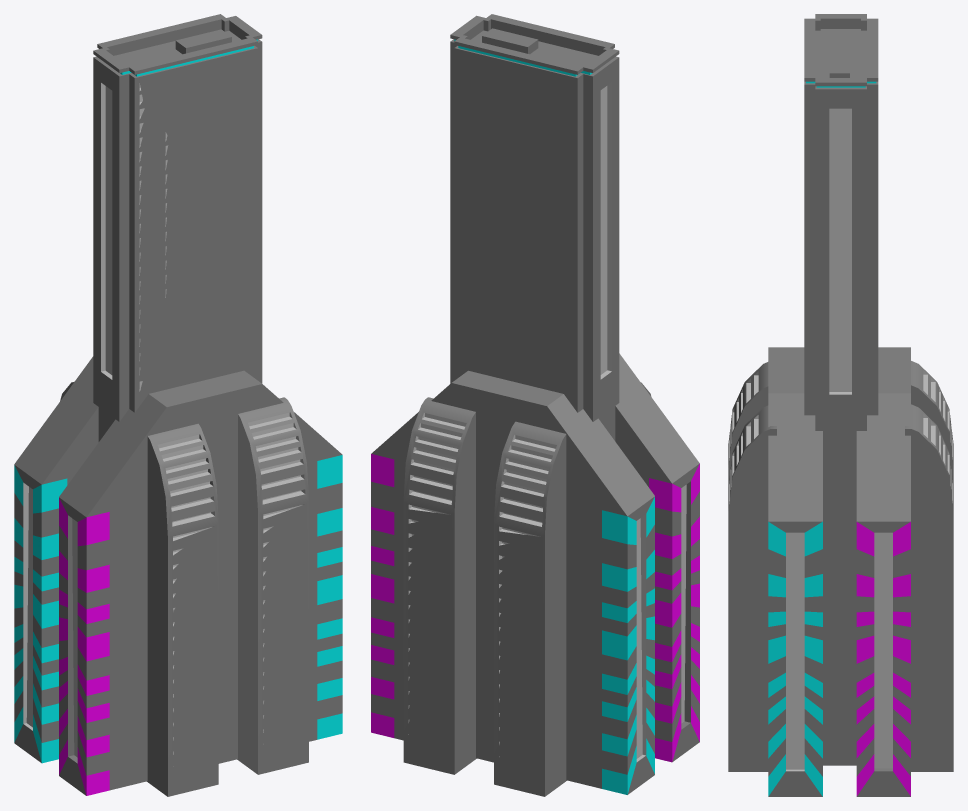
The model's file is SM_Buildning_02.fbx.
3 renders of one model, left to right at view 1: azimuth 30°, elevation 25°; view 2: azimuth 150°, elevation 25°; view 3: azimuth 270°, elevation 25°, orthographic.
Visible parts, largest first — view 1: pCube266; view 2: pCube266; view 3: pCube266.
Boxes of the visible parts, left/top/right/bottom form: pCube266: left=14, top=14, right=342, bottom=796; pCube266: left=371, top=14, right=699, bottom=796; pCube266: left=728, top=14, right=953, bottom=796.
Bounding box in the file's own units: 56.14 × 146 × 43.3.
